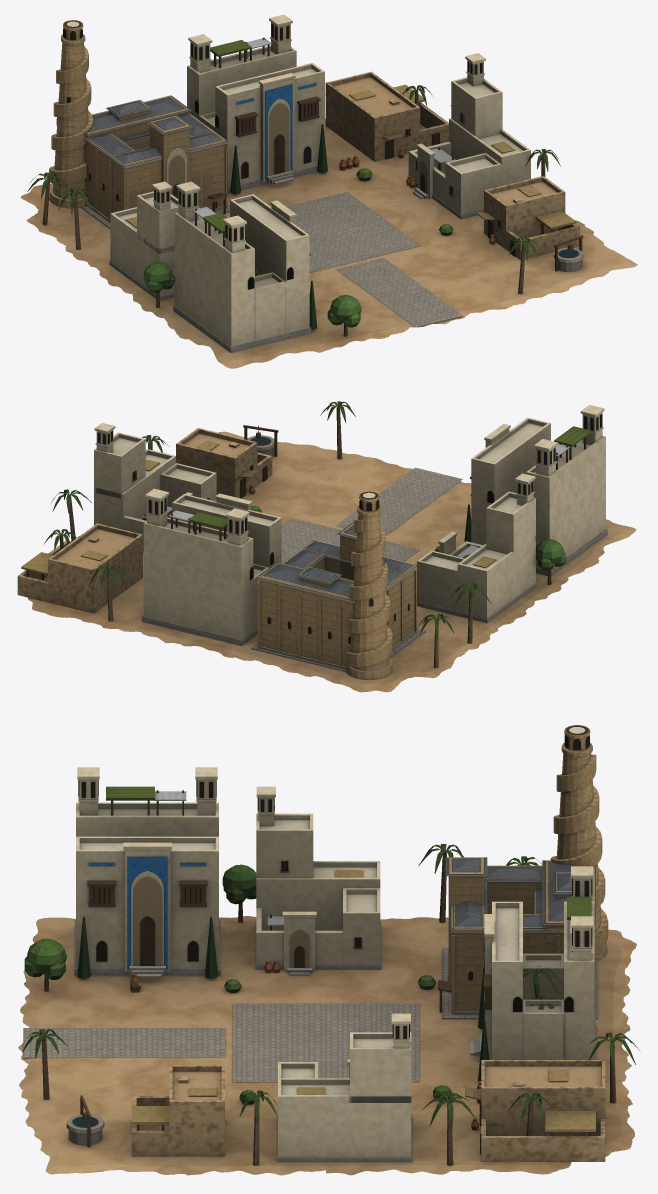
The model's file is kingdoms-town-small-a-levant-e233189e.glb.
3 renders of one model, top to bottom at view 1: azimuth 30°, elevation 25°; view 2: azimuth 150°, elevation 25°; view 3: azimuth 270°, elevation 25°, orthographic. The views are drawn at different scales.
Parts seen in each view (by area): view 1: LOD0; view 2: LOD0; view 3: LOD0.
Boxes of the visible parts, bbox=[...] form: LOD0: bbox=[20, 14, 637, 368]; LOD0: bbox=[17, 401, 636, 692]; LOD0: bbox=[18, 725, 640, 1175].
Size of what is drawn, in the model's own units: 4.12 by 1.6 by 4.06.
Materials: 3 (3 with a texture image).
